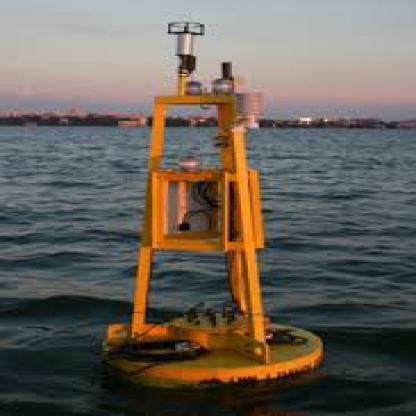buoy: (87, 17, 335, 394)
